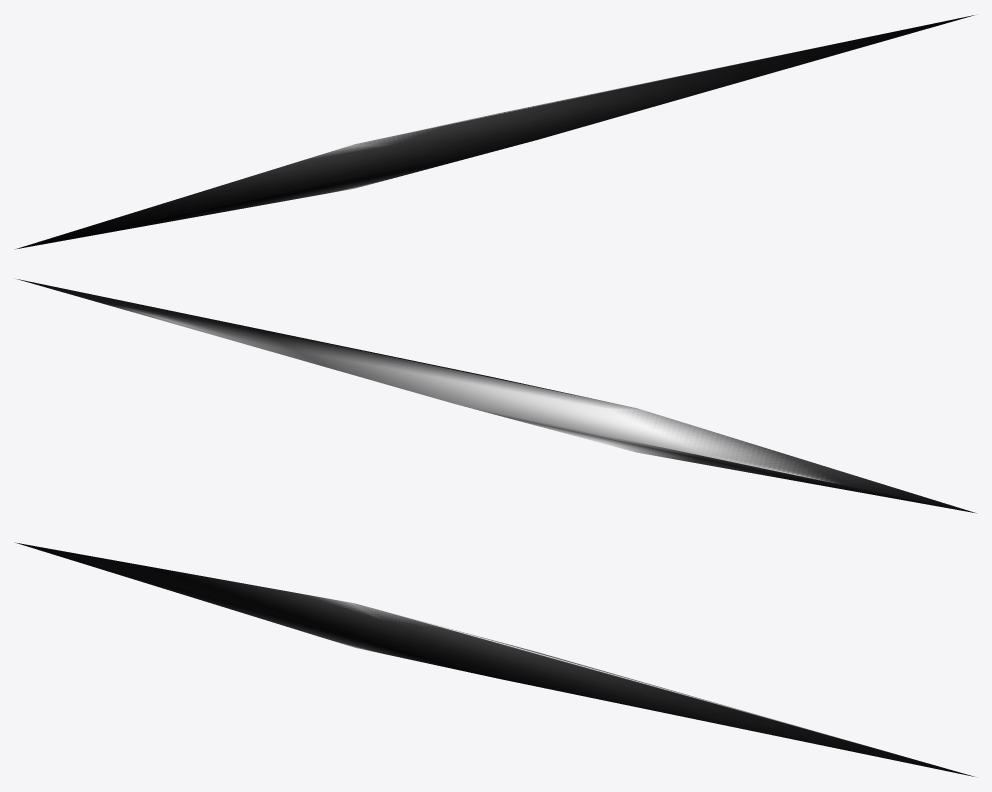
The model's file is 0230_bingnv_bingjian01.glb.
3 renders of one model, top to bottom at view 1: azimuth 30°, elevation 25°; view 2: azimuth 150°, elevation 25°; view 3: azimuth 330°, elevation 25°, orthographic.
Bounding box in the file's own units: 2.2 × 0.0968 × 0.1462.
Materials: 1 (1 with a texture image).
